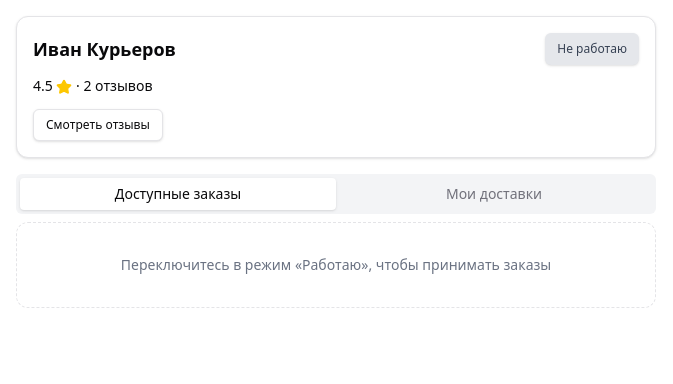
CourierDashboardPage › «Мои доставки» tab renders delivery card and is NOT offline-gated
# Switch to «Мои доставки» tab — must be visible even offline
Click the tab "Мои доставки". click: (494, 194)
box: [336,178,652,210]
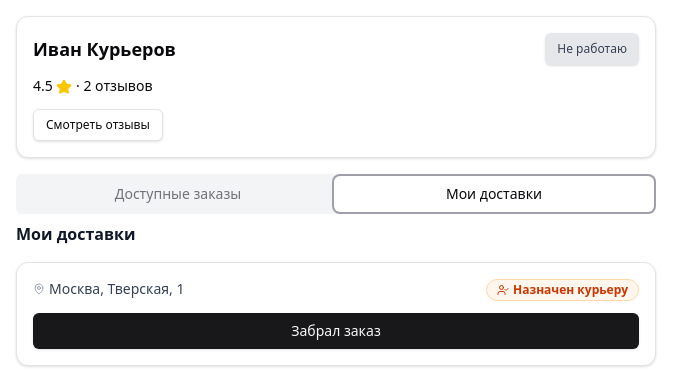
Expected: the text "Москва, Тверская, 1" is shown, [49,279,184,299]
Expected: the text "Переключитесь в режим" is gone
